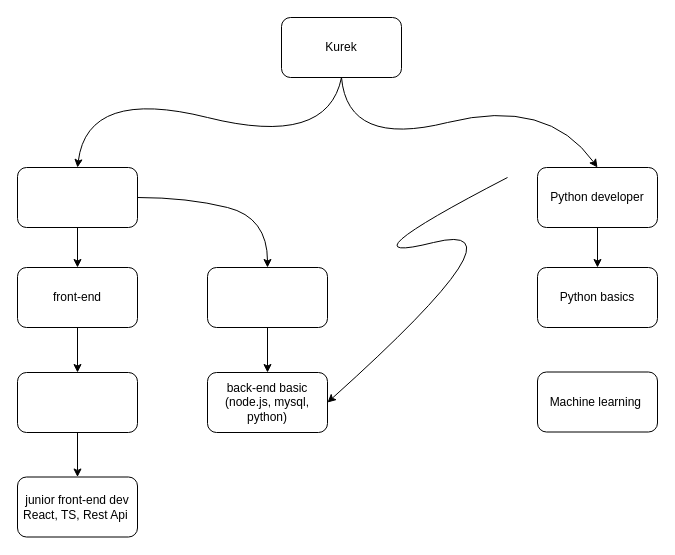
Image size: 675x555. Some labels were removed from this diagram. The centre of each missing label's shape, as x and y in pixels:
back-end: (267,297)
front-end Basic (html css js sass gulp bootstrap rwd npm): (77,402)
web developer: (77,197)
